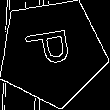P_E: (24, 30, 80, 75)
